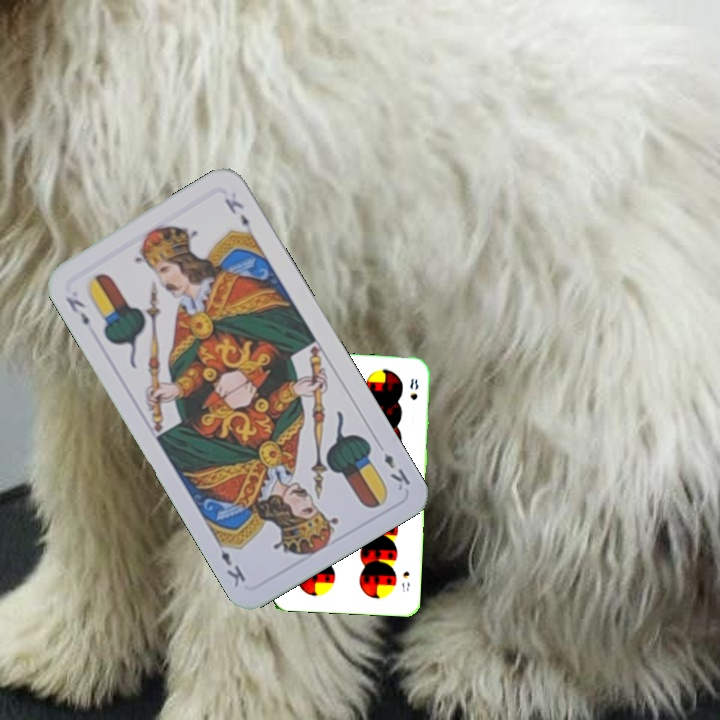EK: (379, 449, 413, 494), (61, 292, 92, 329)
S8: (398, 567, 413, 594)
